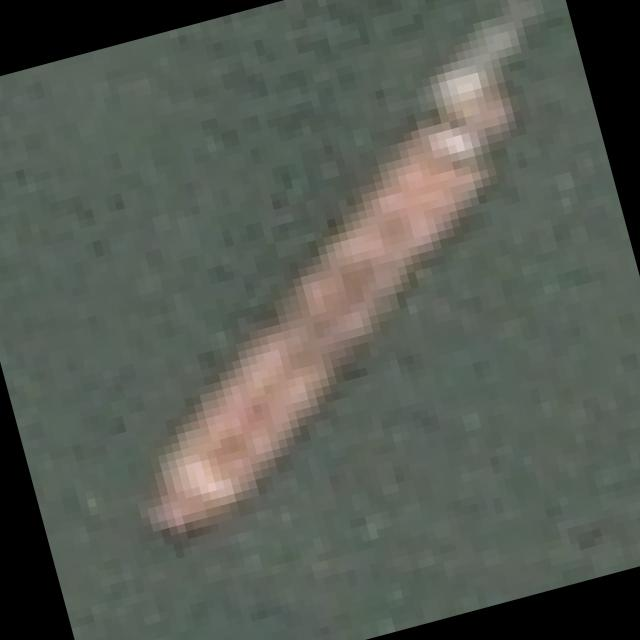ship: (33, 0, 640, 568)
